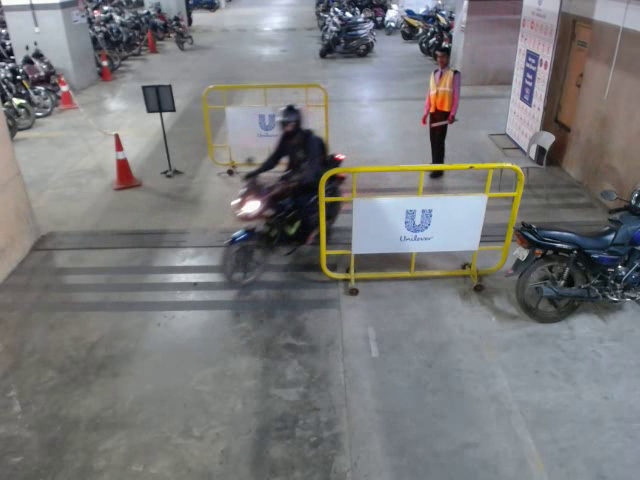with_helmet: (281, 104, 303, 141)
